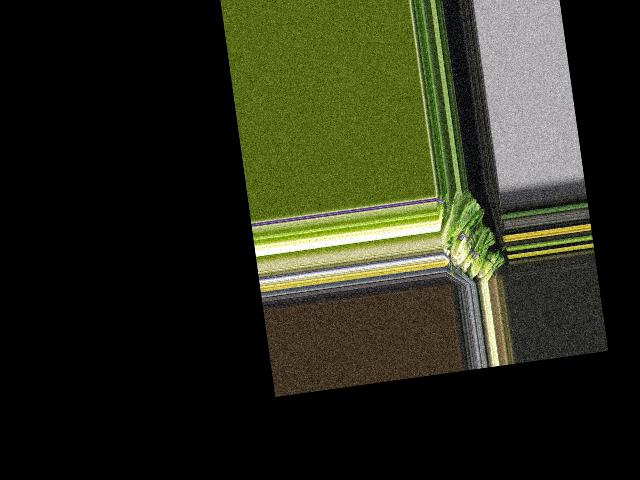lettuce: (437, 189, 482, 247)
